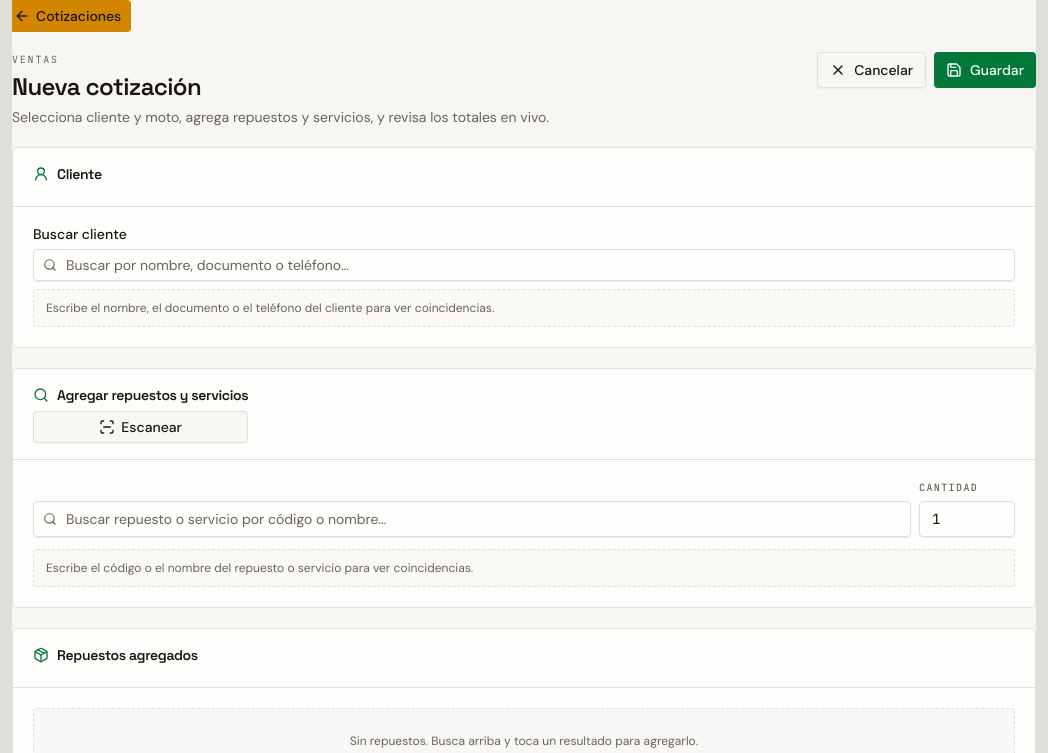
Test: QuoteDetailPage new-quote form (characterization) › marks the clicked customer result as selected
Expected: the heading "Nueva cotización" is shown, top-left (12, 71), bottom-right (201, 102)
Type "Ada" into the search field with test id "quote_detail.customer_search_input" at (524, 265), box top-left (33, 249), bottom-right (1015, 281)
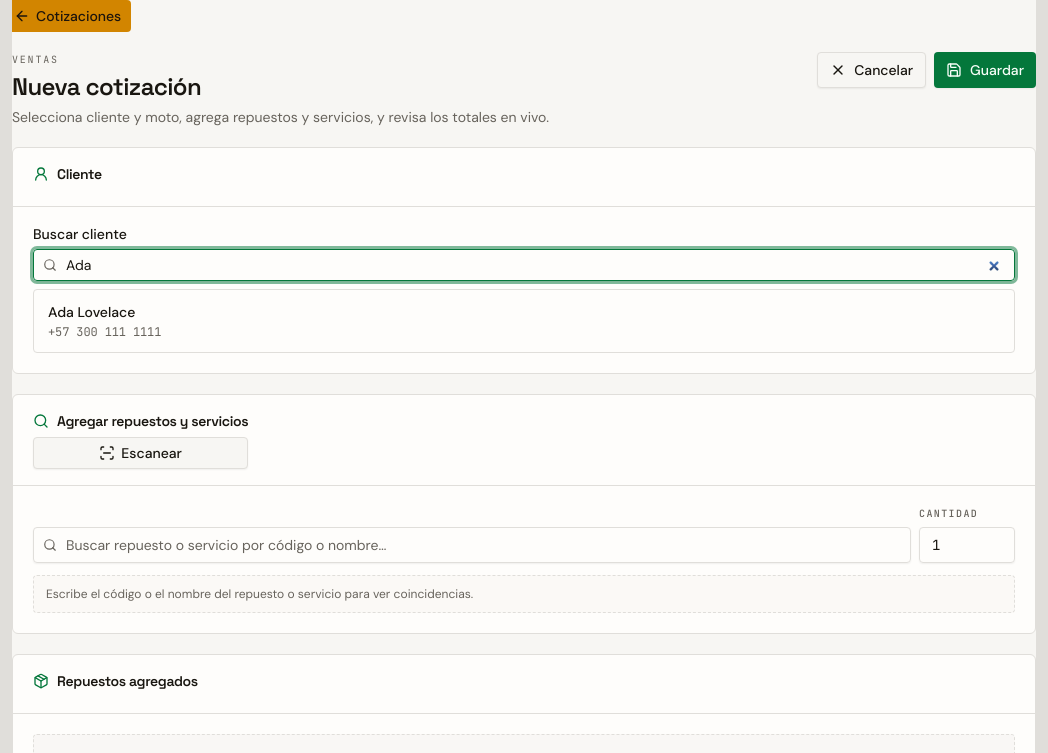
Click the button with test id "quote_detail.customer_search.item.1" at (92, 312), box top-left (38, 294), bottom-right (1010, 348)
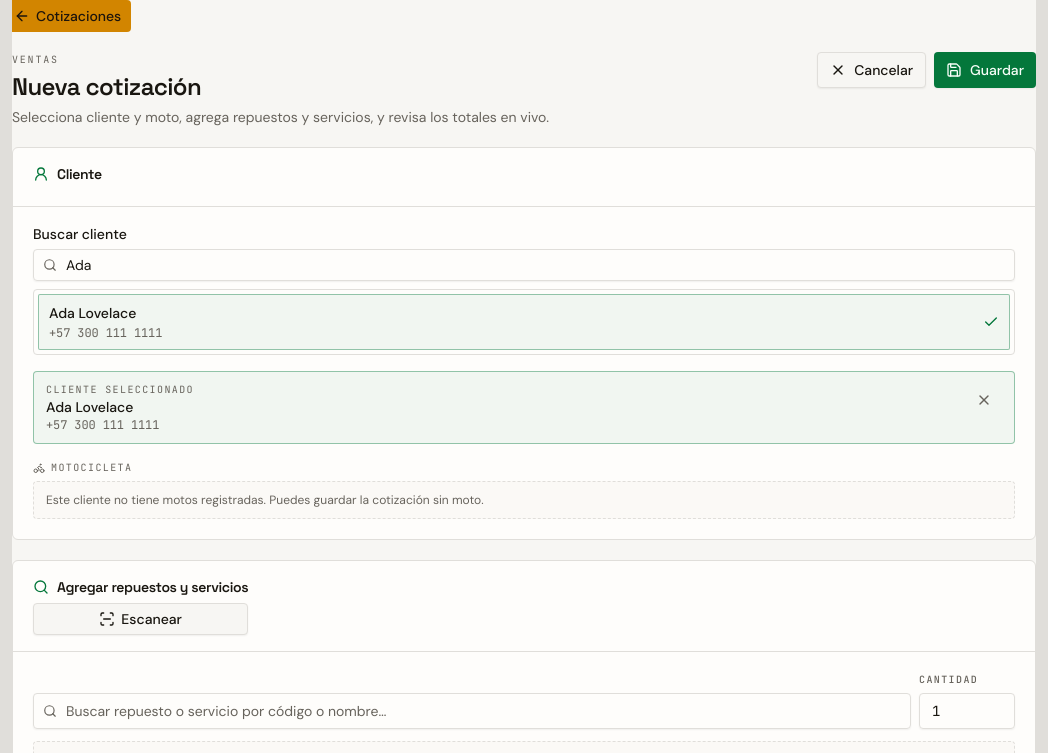
Expected: the element with test id "quote_detail.customer_selected" shows "Cliente seleccionado", top-left (46, 383), bottom-right (194, 396)
Expected: the element with test id "quote_detail.customer_selected" shows "Ada Lovelace", top-left (46, 398), bottom-right (133, 416)
